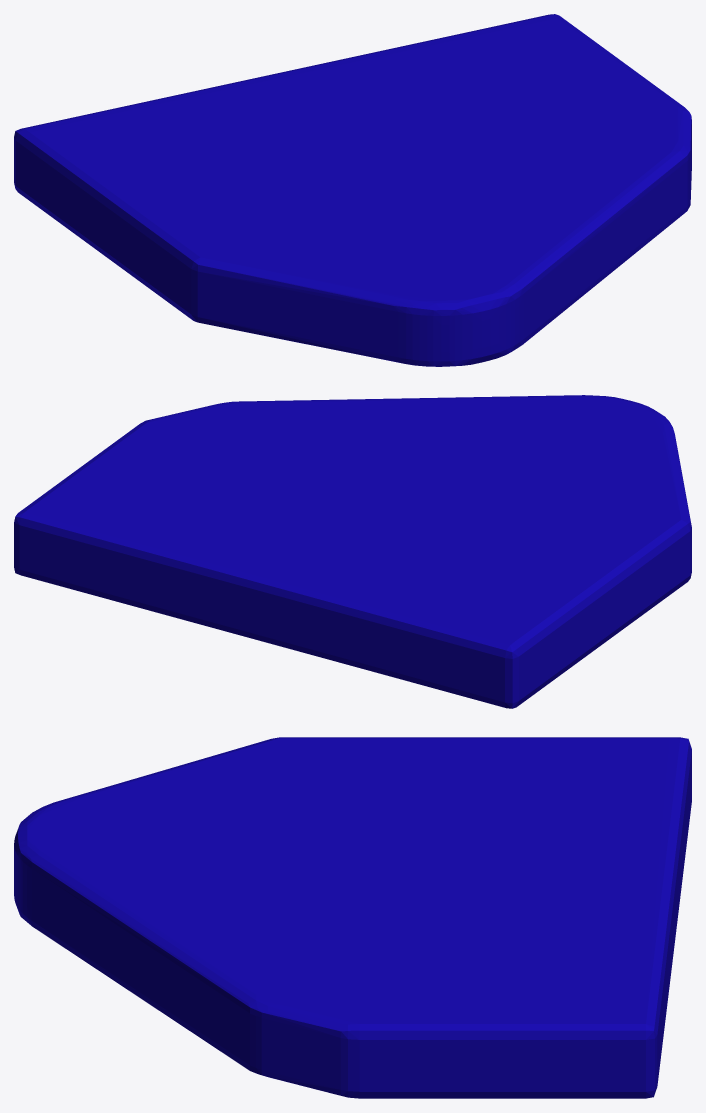
The model's file is right_ankle_link_part_5.obj.
3 views of the same model, one above another, from view 1: azimuth 30°, elevation 25°; view 2: azimuth 150°, elevation 25°; view 3: azimuth 270°, elevation 25° (orthographic). The views are drawn at different scales.
Size of the model in its own units: 0.0764 by 0.00887 by 0.074.
